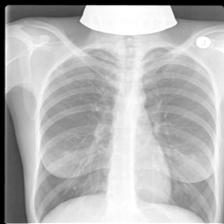tuberculosis: (31, 41, 221, 224)
